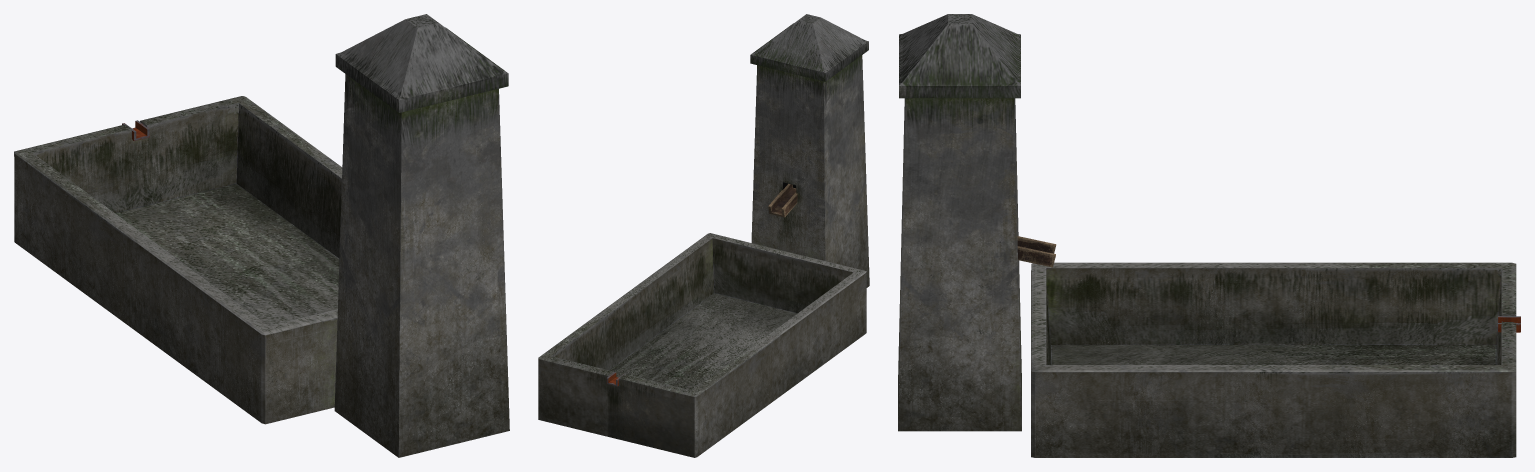
The model's file is vv_bomba_agua.glb.
3 views of the same model, side by side, from view 1: azimuth 30°, elevation 25°; view 2: azimuth 150°, elevation 25°; view 3: azimuth 270°, elevation 25° (orthographic). The views are drawn at different scales.
Parts seen in each view (by area): view 1: 11_LP, 22_LP; view 2: 11_LP, 22_LP, 33_LP; view 3: 11_LP, 22_LP, 33_LP.
Boxes of the visible parts, x1,y1,x2,y2 form: 11_LP: (14, 96, 342, 424); 22_LP: (334, 14, 509, 457); 11_LP: (538, 233, 866, 457); 22_LP: (750, 14, 869, 287); 33_LP: (768, 183, 797, 217); 11_LP: (1031, 262, 1516, 457); 22_LP: (898, 14, 1021, 431); 33_LP: (1017, 236, 1056, 267).
Size of the model in its own units: 564 by 933 by 1361.
Materials: 1 (1 with a texture image).
